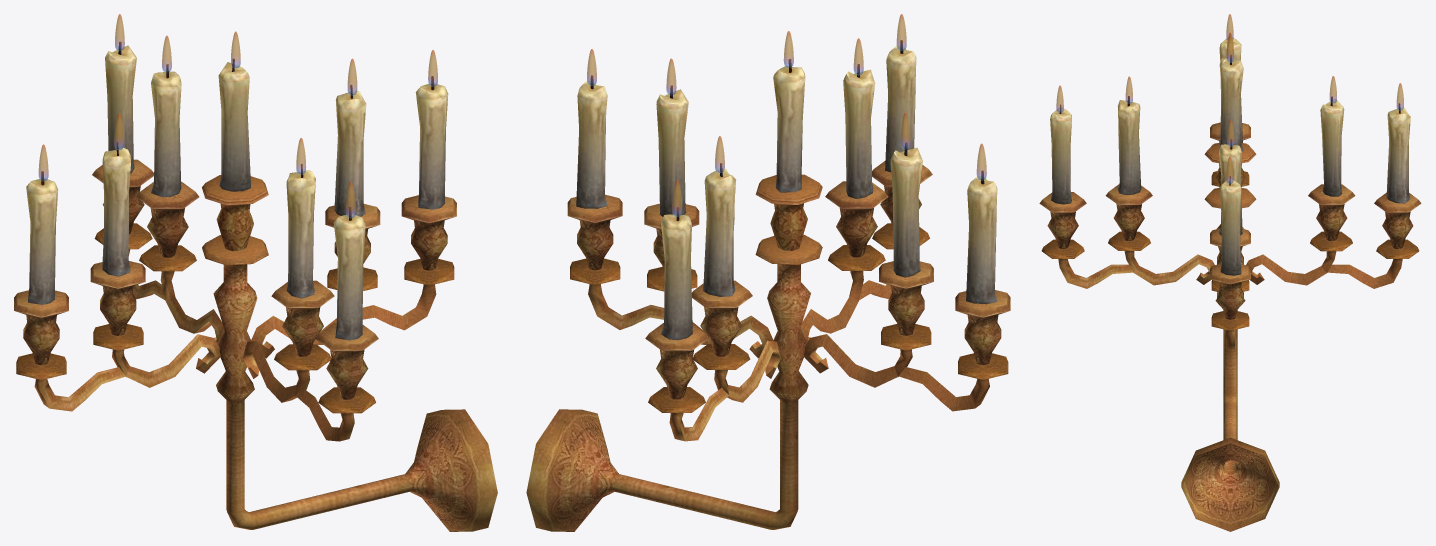
Rendered from Candlestick03A.fbx.
3 renders of one model, left to right at view 1: azimuth 30°, elevation 25°; view 2: azimuth 150°, elevation 25°; view 3: azimuth 270°, elevation 25°, orthographic. The views are drawn at different scales.
Parts seen in each view (by area): view 1: Candlestick03A; view 2: Candlestick03A; view 3: Candlestick03A.
Part boxes in pixels (x1,y1,x2,y2): Candlestick03A: (14,41,497,531); Candlestick03A: (526,40,1010,531); Candlestick03A: (1039,34,1421,531).
Bounding box in the file's own units: 19.13 × 22.41 × 18.78.
2 materials, 2 textured.
